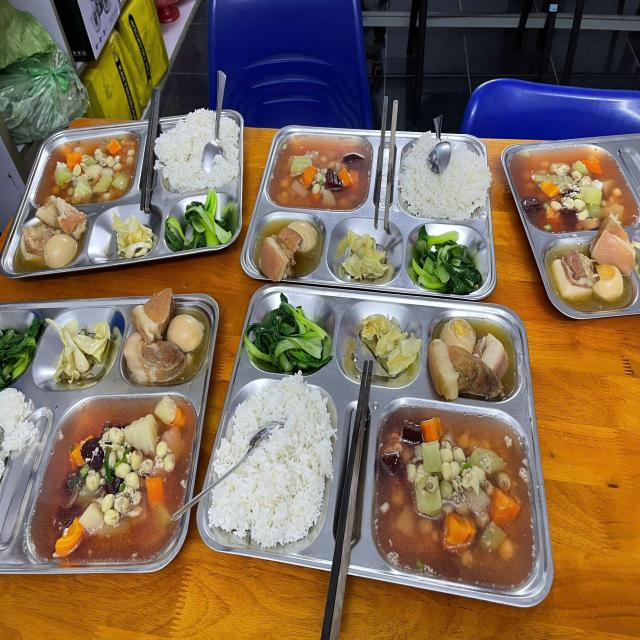caithia: (237, 291, 331, 375), (409, 225, 486, 296), (160, 188, 235, 253), (0, 319, 44, 382)
canhcuden: (370, 405, 537, 596), (26, 394, 199, 566), (509, 145, 639, 235), (31, 129, 141, 208), (267, 132, 373, 213)
cukieu: (47, 317, 117, 389), (356, 312, 424, 381), (340, 225, 392, 284), (111, 207, 158, 262)
salad: (201, 374, 334, 549), (401, 135, 488, 220), (156, 110, 240, 190), (1, 397, 29, 456)
thitluoc: (543, 213, 638, 316), (426, 310, 521, 409), (119, 284, 211, 386), (15, 195, 87, 272), (255, 216, 327, 288)
